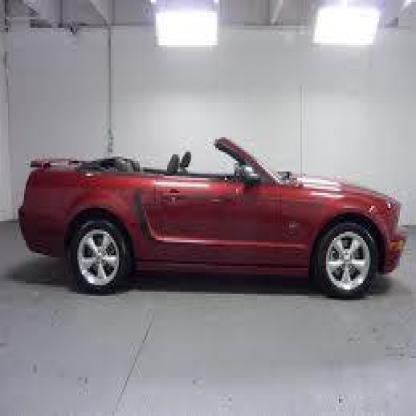Vehicle: (19, 137, 408, 300)
